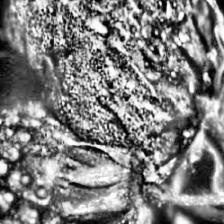Gray Mold: (3, 0, 224, 183), (0, 101, 166, 224)
